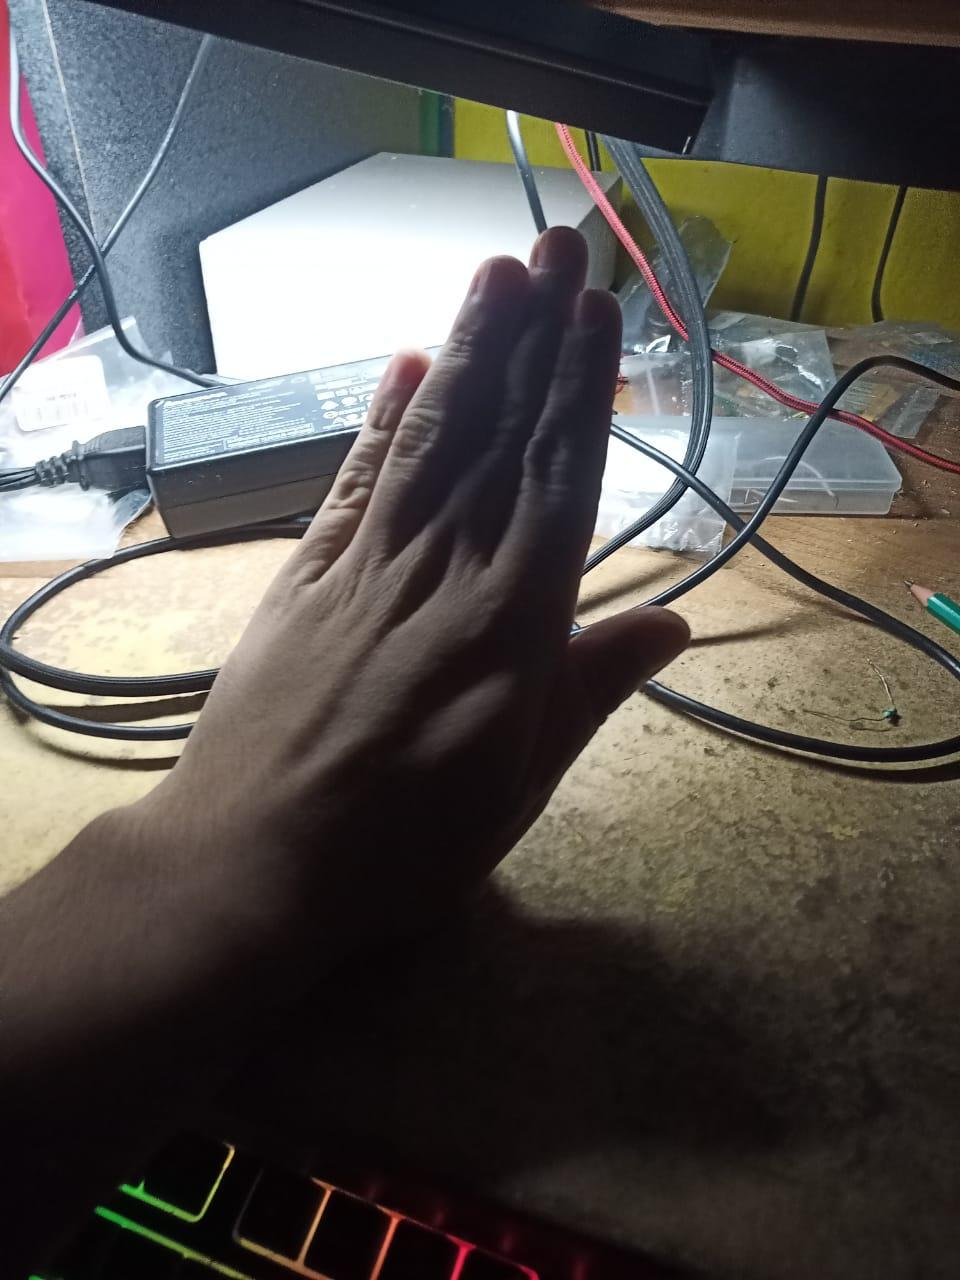Paper: (0, 229, 687, 1280)
